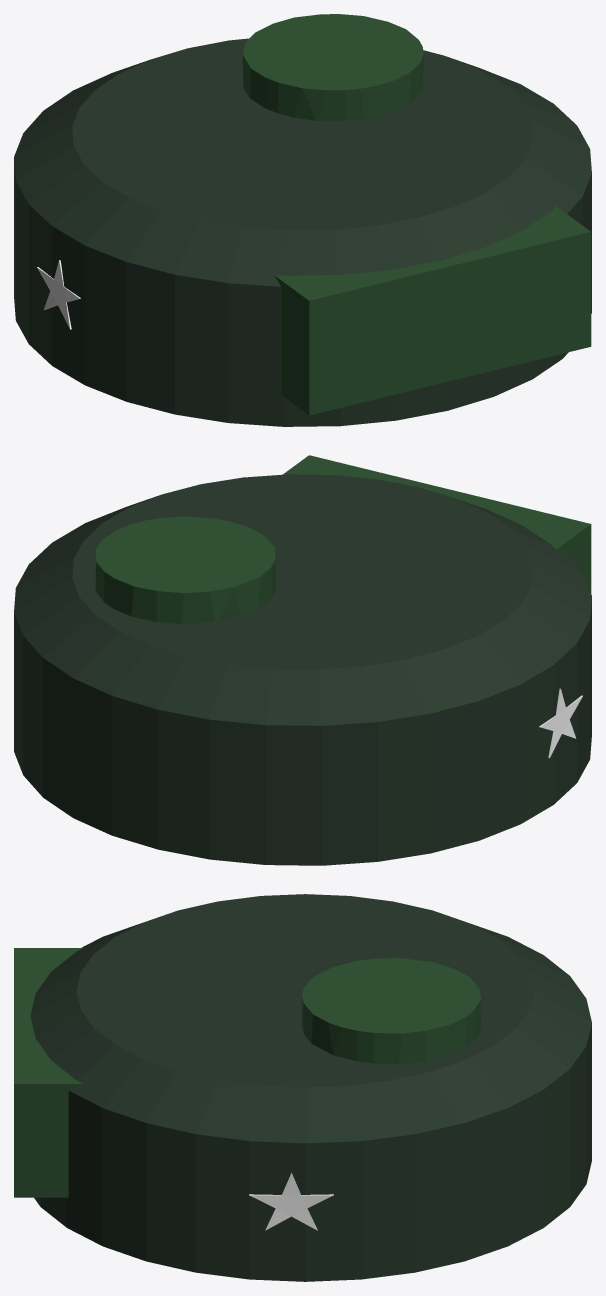
File: ShermanTurret.obj
The picture shows the model from 3 angles, top to bottom: view 1: azimuth 30°, elevation 25°; view 2: azimuth 150°, elevation 25°; view 3: azimuth 270°, elevation 25°; orthographic projection.
Parts seen in each view (by area): view 1: 円柱, 立方体.024_立方体.005, 円柱.001, 円柱.002; view 2: 円柱, 円柱.001, 立方体.024_立方体.005, 円柱.002; view 3: 円柱, 円柱.001, 立方体.024_立方体.005, 円柱.005.
Boxes of the visible parts, <box> form: 円柱: <box>14,38,591,426</box>; 立方体.024_立方体.005: <box>274,206,591,415</box>; 円柱.001: <box>242,14,423,120</box>; 円柱.002: <box>37,260,80,329</box>; 円柱: <box>14,474,591,865</box>; 円柱.001: <box>95,516,275,623</box>; 立方体.024_立方体.005: <box>283,455,591,593</box>; 円柱.002: <box>539,688,582,758</box>; 円柱: <box>30,894,591,1281</box>; 円柱.001: <box>302,958,481,1064</box>; 立方体.024_立方体.005: <box>14,948,83,1197</box>; 円柱.005: <box>249,1172,333,1230</box>.
Size of the model in its own units: 3.23 by 1.24 by 3.23.
Materials: 5 (5 with a texture image).
